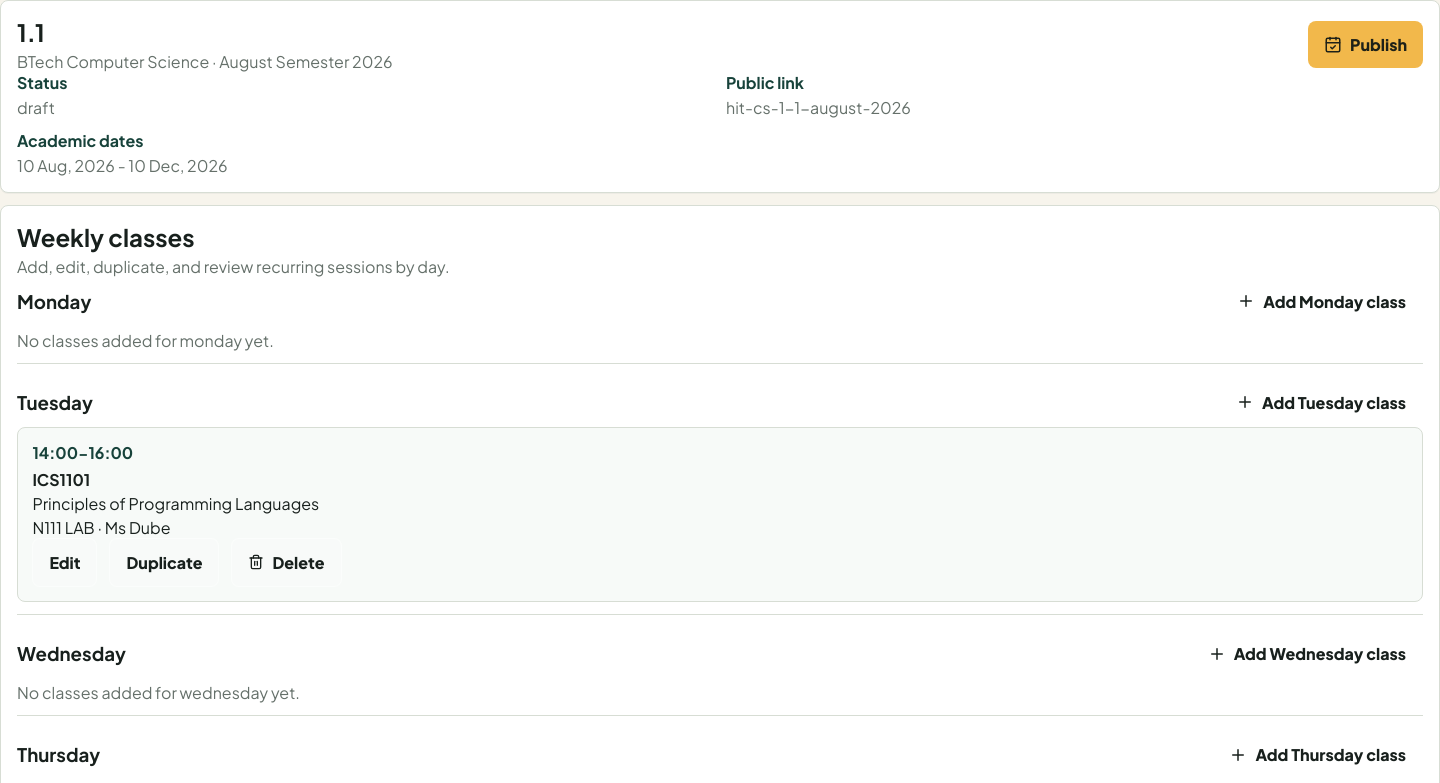
Test case: timetable editor manual entry flow › does not persist anything when Duplicate is clicked
The width and height of the screenshot is (1440, 783).
Click the button "Duplicate" at (164, 562), box [110,538,220,586]
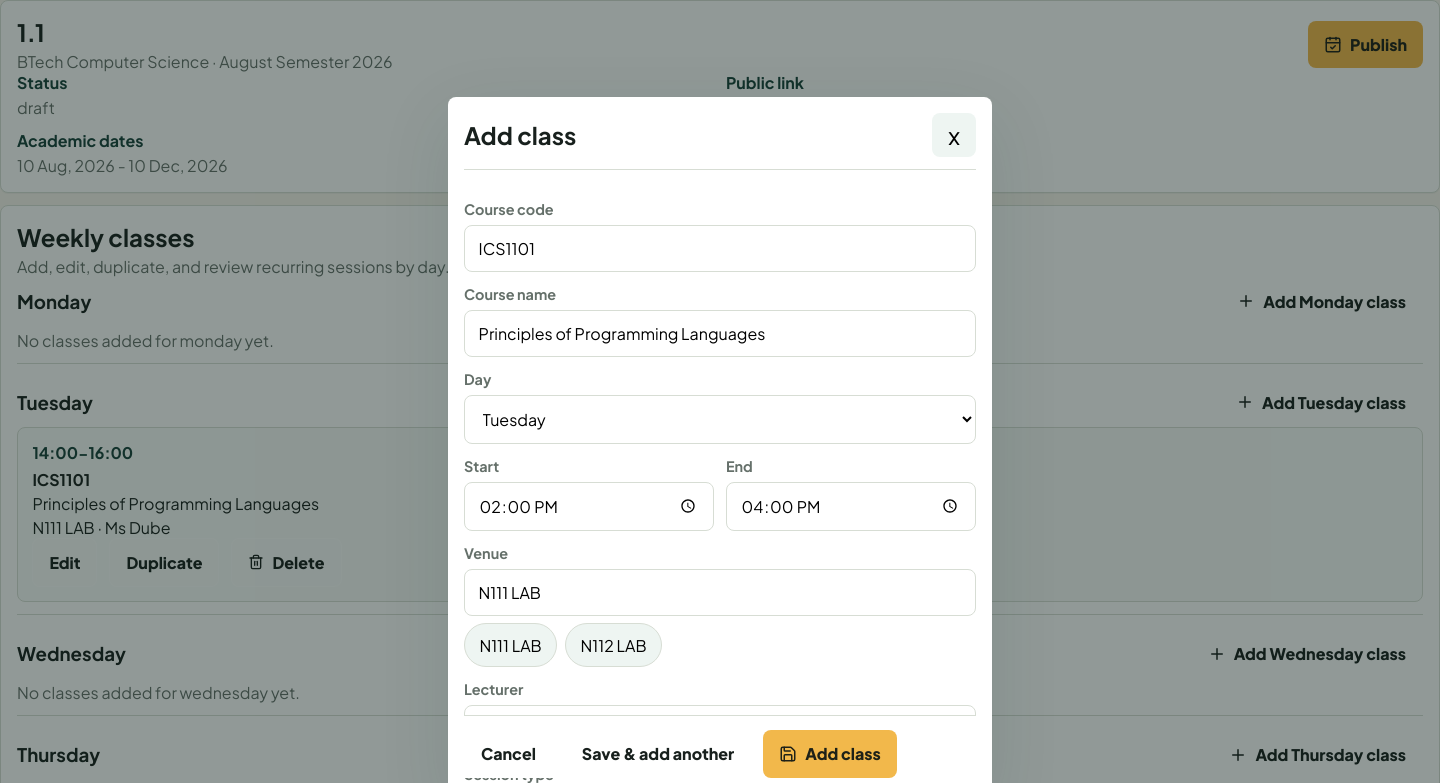
Result: the field labelled "Course code" holds "ICS1101" at [464,225,976,272]
Result: the field labelled "Course name" holds "Principles of Programming Languages" at [464,310,976,357]
